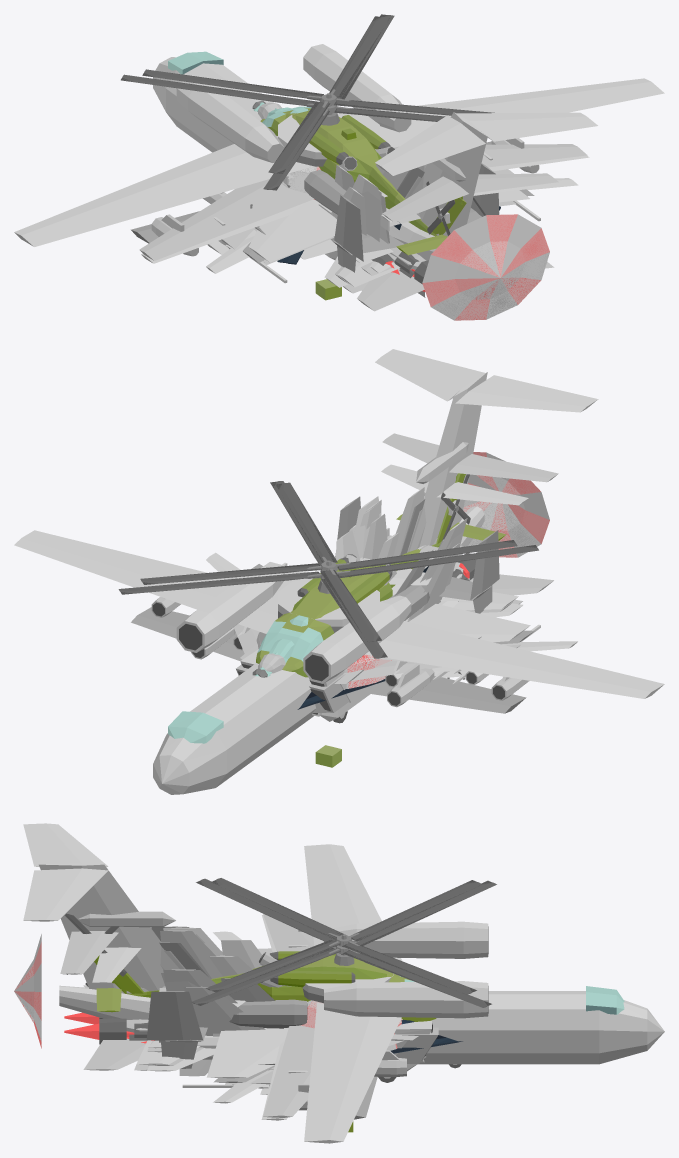
The model's file is stflt.glb.
3 views of the same model, one above another, from view 1: azimuth 30°, elevation 25°; view 2: azimuth 150°, elevation 25°; view 3: azimuth 270°, elevation 25° (orthographic). The views are drawn at different scales.
Parts seen in each view (by area): view 1: stflt_006_lod0, stflt_030_lod0, stflt_035_lod0_s7v1, stflt_025_lod0, stflt_000_lod0, stflt_032_lod0, stflt_043_lod1_part1, stflt_029_lod0, stflt_025_lod1_part1, stflt_009_lod0, stflt_022_lod0, stflt_043_lod2_part1 (+8 smaller); view 2: stflt_006_lod0, stflt_032_lod0, stflt_025_lod0, stflt_030_lod0, stflt_000_lod0, stflt_043_lod1_part1, stflt_035_lod0_s7v1, stflt_029_lod0, stflt_025_lod1_part1, stflt_009_lod0, stflt_021_lod0, stflt_043_lod2_part1 (+9 smaller); view 3: stflt_006_lod0, stflt_030_lod0, stflt_000_lod0, stflt_032_lod0, stflt_025_lod0, stflt_029_lod0, stflt_043_lod1_part1, stflt_025_lod1_part1, stflt_005_lod0, stflt_009_lod0, stflt_035_lod0_s7v1, stflt_043_lod2_part1 (+10 smaller).
Boxes of the visible parts, x1,y1,x2,y2 form: stflt_006_lod0: (14,44,664,260); stflt_030_lod0: (139,138,587,260); stflt_035_lod0_s7v1: (422,214,549,320); stflt_025_lod0: (260,106,466,255); stflt_000_lod0: (248,174,529,287); stflt_032_lod0: (131,102,499,272); stflt_043_lod1_part1: (144,17,494,173); stflt_029_lod0: (221,158,554,311); stflt_025_lod1_part1: (122,15,444,189); stflt_009_lod0: (141,152,589,263); stflt_022_lod0: (249,190,540,293); stflt_043_lod2_part1: (142,16,487,173); stflt_006_lod0: (14,349,664,794); stflt_032_lod0: (131,496,526,713); stflt_025_lod0: (256,473,506,677); stflt_030_lod0: (151,433,558,707); stflt_000_lod0: (240,496,530,712); stflt_043_lod1_part1: (140,482,517,642); stflt_035_lod0_s7v1: (424,452,549,557); stflt_029_lod0: (230,442,553,683); stflt_025_lod1_part1: (119,481,538,658); stflt_009_lod0: (233,464,528,687); stflt_021_lod0: (236,514,513,712); stflt_043_lod2_part1: (141,483,516,641); stflt_006_lod0: (23,823,664,1143); stflt_030_lod0: (60,913,406,1118); stflt_000_lod0: (134,927,432,1078); stflt_032_lod0: (146,926,377,1119); stflt_025_lod0: (94,951,436,1021); stflt_029_lod0: (78,911,418,1084); stflt_043_lod1_part1: (206,878,481,994); stflt_025_lod1_part1: (191,878,496,1007); stflt_005_lod0: (147,951,407,1088); stflt_009_lod0: (92,915,307,1120); stflt_035_lod0_s7v1: (14,934,41,1048); stflt_043_lod2_part1: (207,878,481,994).
Size of what is drawn, in the model's own units: 454 by 189 by 422.
